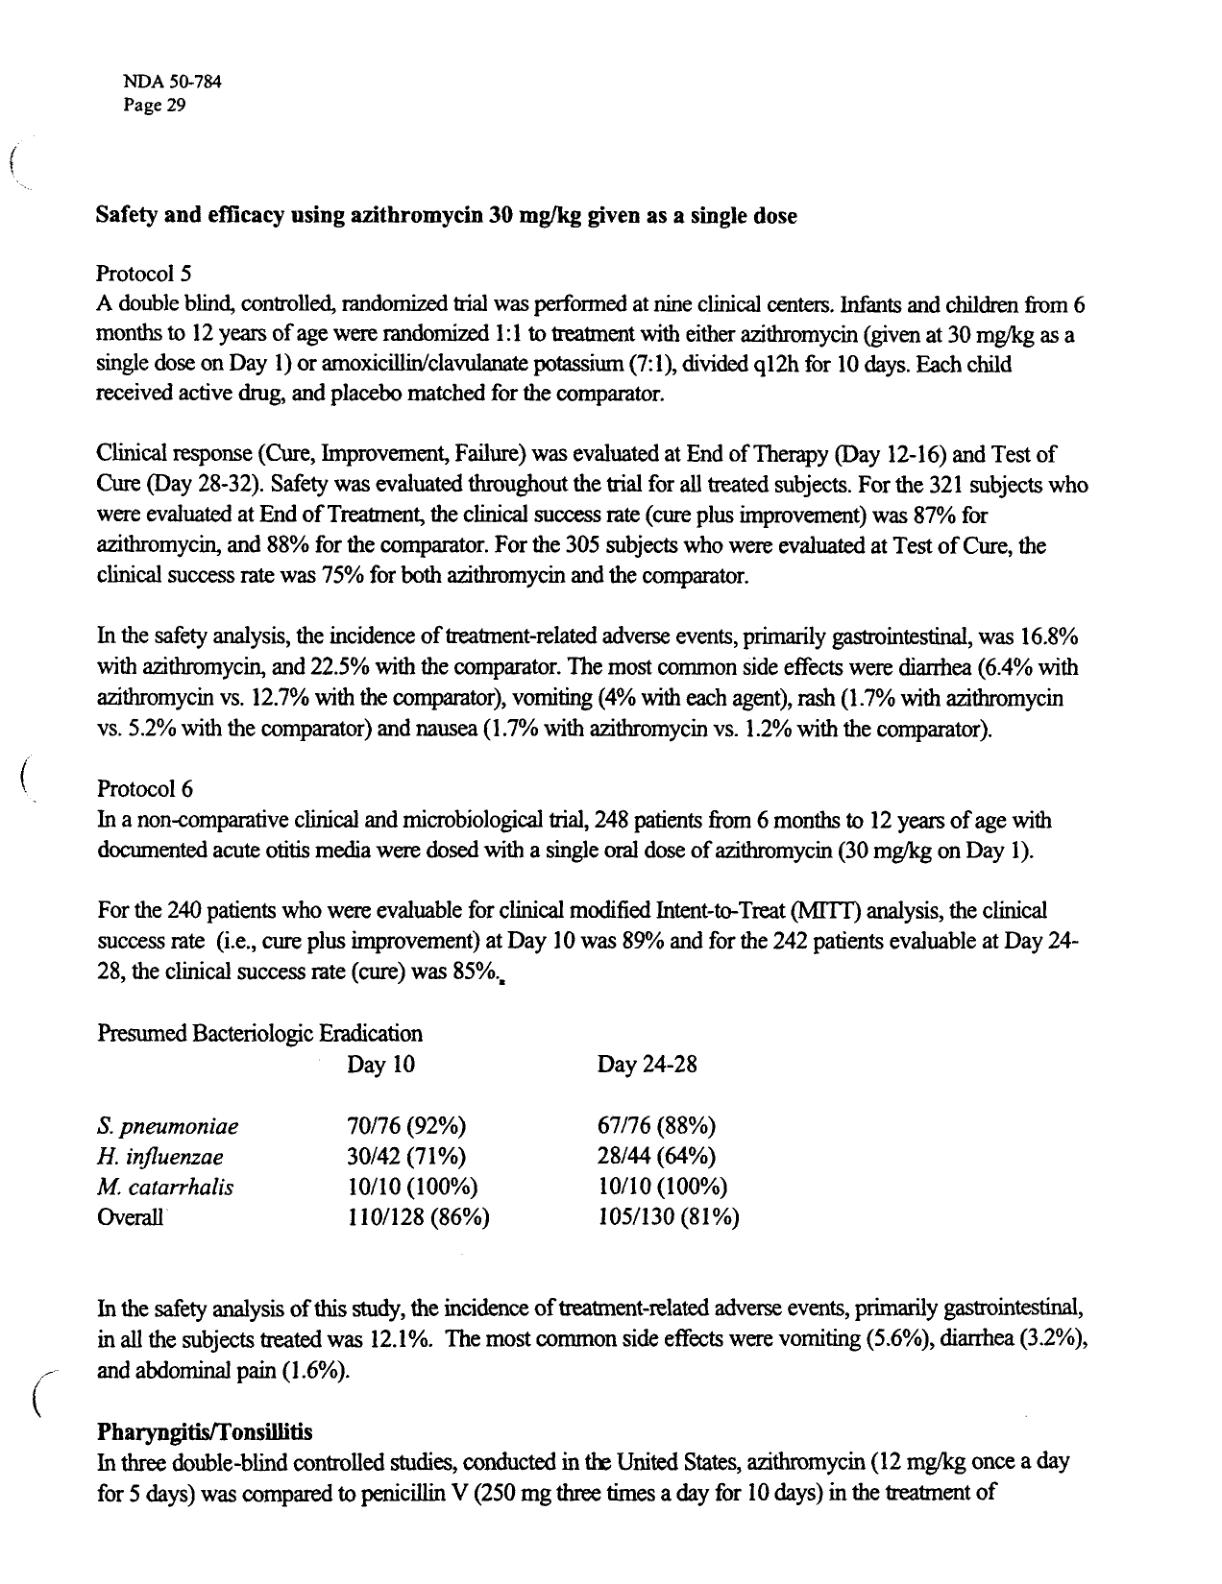nolines: (92, 1053, 742, 1232)
